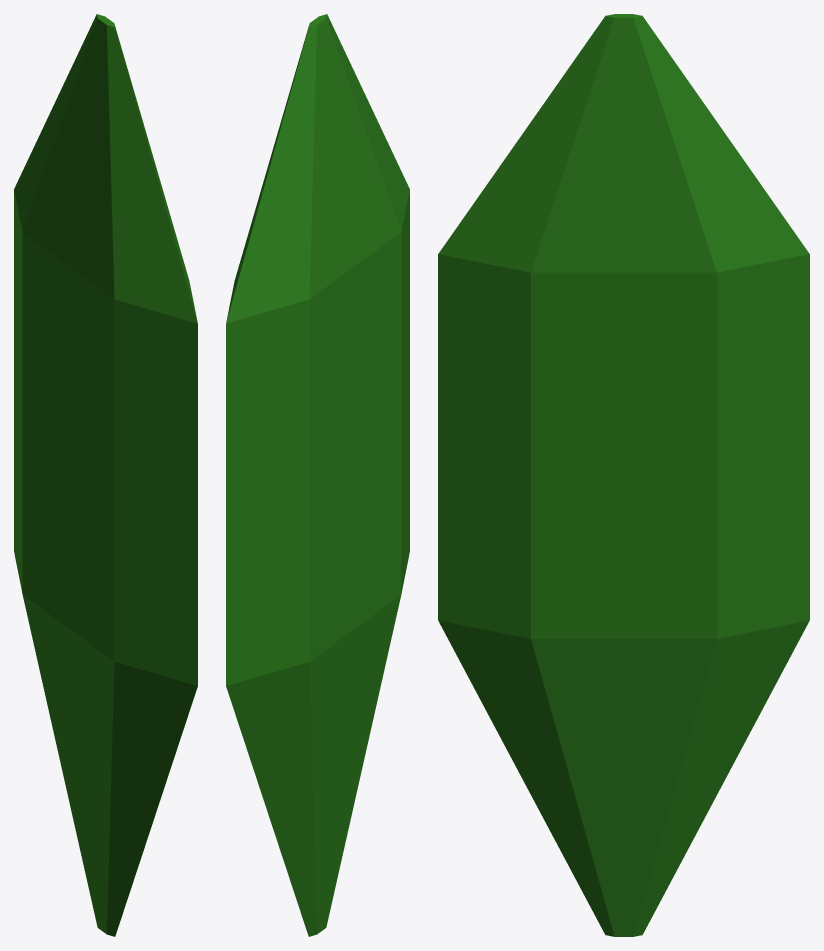
File: Emerald.fbx
The picture shows the model from 3 angles, left to right: view 1: azimuth 30°, elevation 25°; view 2: azimuth 150°, elevation 25°; view 3: azimuth 270°, elevation 25°; orthographic projection.
Parts seen in each view (by area): view 1: Cylinder; view 2: Cylinder; view 3: Cylinder.
Boxes of the visible parts, x1=… form: Cylinder: x1=14, y1=14, x2=197, y2=936; Cylinder: x1=226, y1=14, x2=409, y2=936; Cylinder: x1=438, y1=14, x2=809, y2=936.
Size of the model in its own units: 43.3 by 502 by 184.
